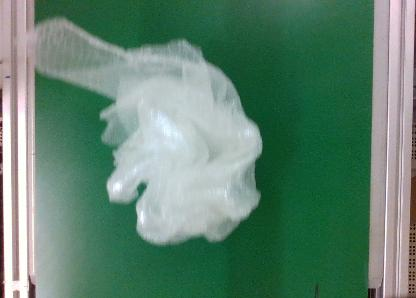Others: (37, 16, 263, 246)
